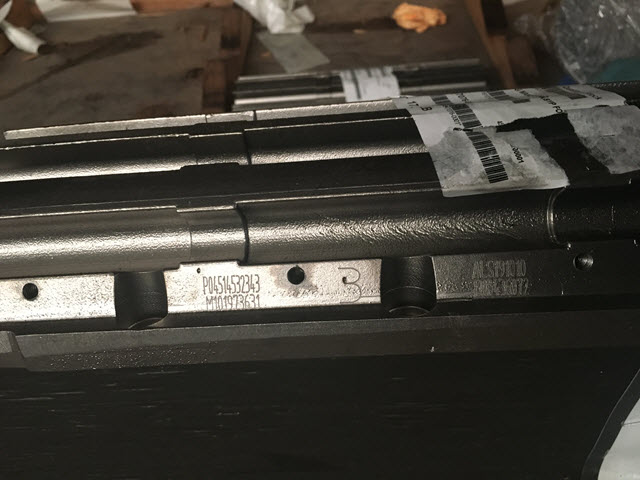character: (199, 275, 210, 296), (238, 274, 247, 294), (254, 272, 262, 294), (225, 274, 233, 295), (203, 296, 214, 311), (212, 274, 219, 296), (207, 274, 214, 295), (230, 274, 237, 294), (235, 274, 242, 293), (217, 274, 223, 295), (221, 274, 227, 295), (244, 273, 250, 294), (249, 273, 255, 294)
